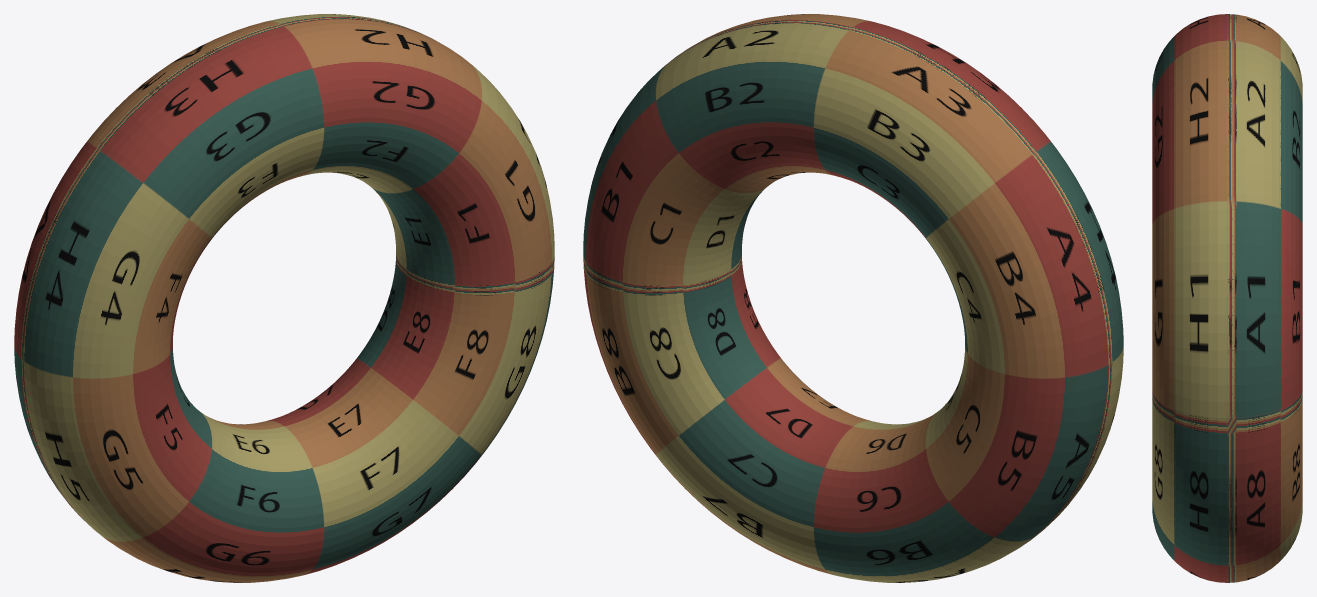
The model's file is texture_torus_R8_r9.glb.
3 renders of one model, left to right at view 1: azimuth 30°, elevation 25°; view 2: azimuth 150°, elevation 25°; view 3: azimuth 270°, elevation 25°, orthographic. The views are drawn at different scales.
Parts seen in each view (by area): view 1: world; view 2: world; view 3: world.
Part boxes in pixels (box(x1,y1,x2,y2)): world: box(14, 14, 554, 582); world: box(583, 14, 1123, 582); world: box(1152, 14, 1302, 582).
Bounding box in the file's own units: 37.78 × 37.78 × 9.98.
Materials: 1 (1 with a texture image).
